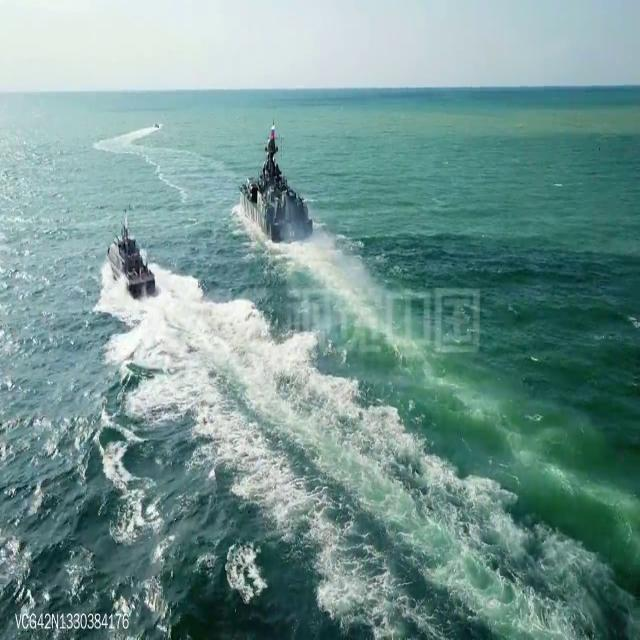houseboat: (240, 125, 315, 245), (107, 212, 157, 295), (150, 119, 161, 132)
